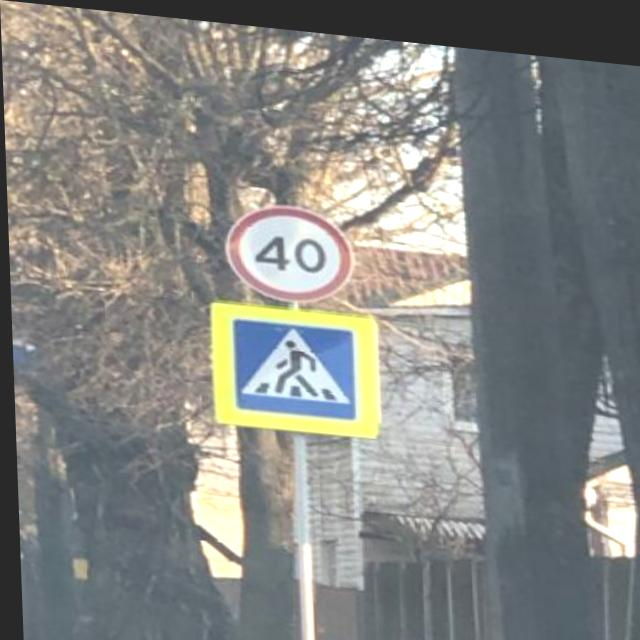limit40: (215, 190, 356, 305)
